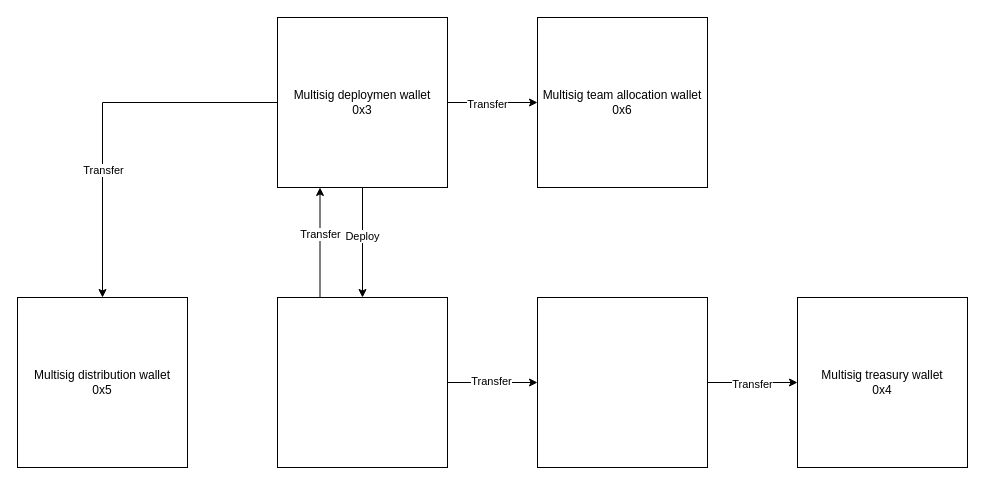
Some shapes in this 985 by 485 pixel diagram are drawn without their labels. Here are the shapes that lost their labels. From the top down, the centre of each, then its label:
At (362,382): "RAILR 0x1".
At (622,382): "ConversionUtil 0x2".
